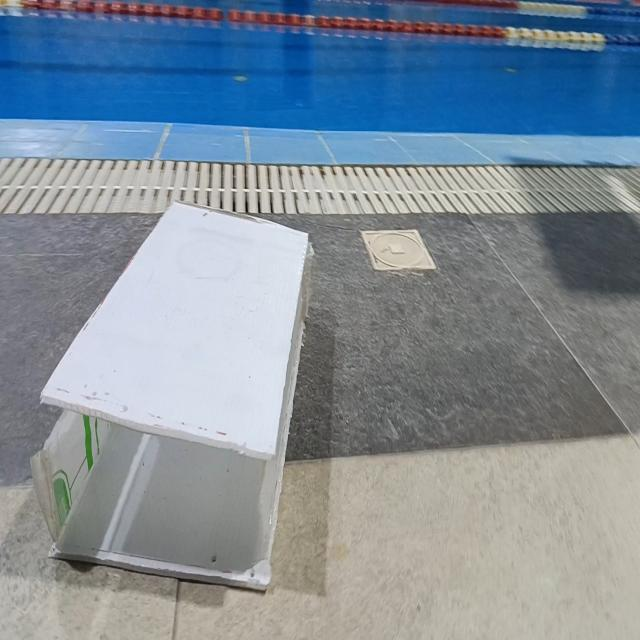Cuboid: (30, 198, 313, 592)
